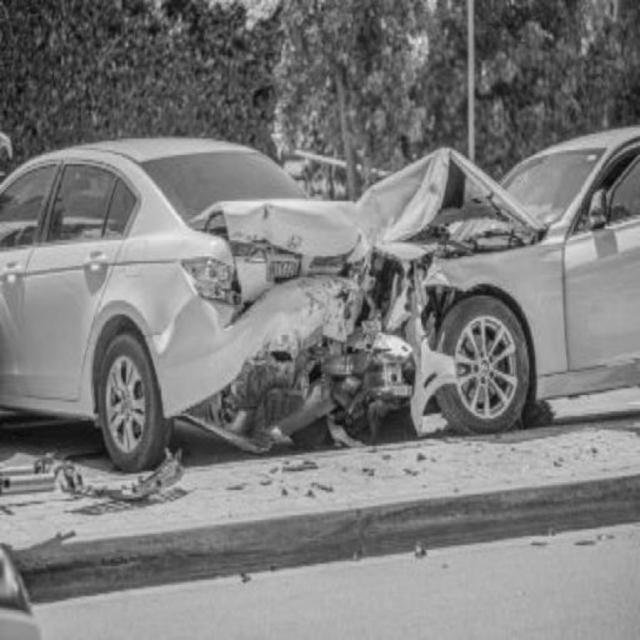accident: (0, 140, 640, 444)
